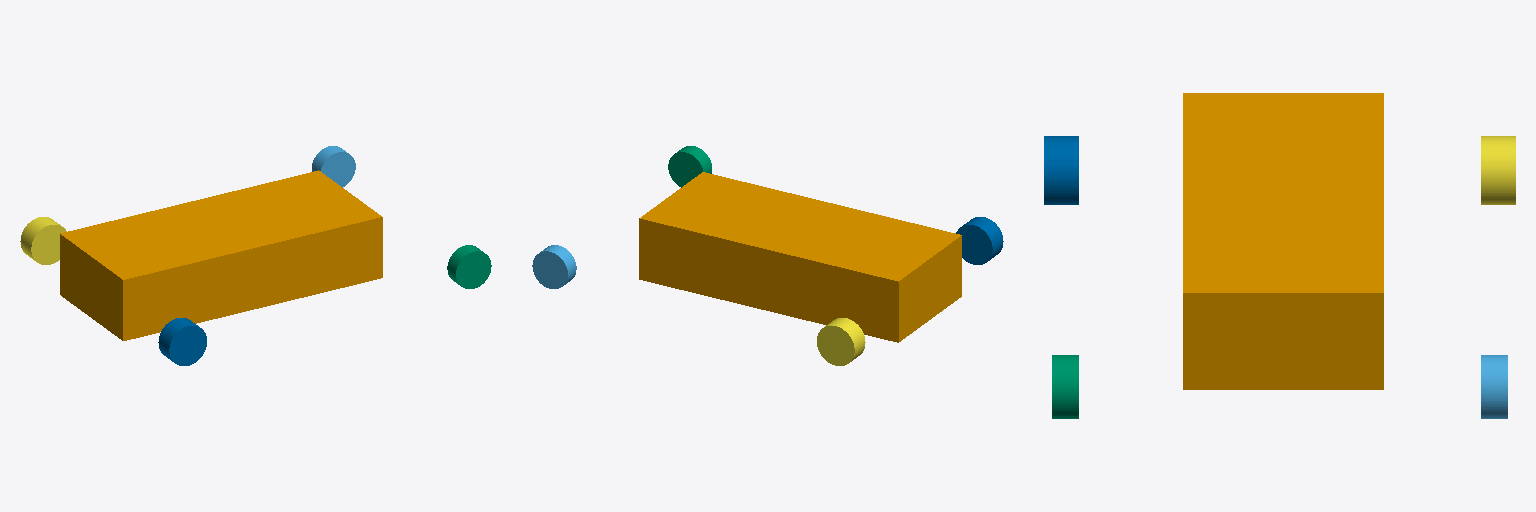
robot.urdf — rc_car:
<?xml version="1.0"?>
<robot name="rc_car">

  <!-- CHASSIS -->
  <link name="chassis">
    <visual>
      <geometry>
        <mesh filename="meshes/chassis.stl" scale="0.001 0.001 0.001"/>
      </geometry>
    </visual>
    <collision>
      <geometry>
        <mesh filename="meshes/chassis.stl" scale="0.001 0.001 0.001"/>
      </geometry>
    </collision>
    <inertial>
      <mass value="3.0"/>
      <inertia ixx="0.1" ixy="0.0" ixz="0.0" iyy="0.1" iyz="0.0" izz="0.1"/>
    </inertial>
  </link>

  <!-- FRONT LEFT WHEEL -->
  <link name="wheel_front_left">
    <visual>
      <geometry>
        <mesh filename="meshes/wheel_front_left.stl" scale="0.001 0.001 0.001"/>
      </geometry>
    </visual>
    <collision>
      <geometry>
        <cylinder radius="0.050" length="0.042"/>
      </geometry>
    </collision>
    <inertial>
      <mass value="0.1"/>
      <inertia ixx="0.001" ixy="0.0" ixz="0.0" iyy="0.001" iyz="0.0" izz="0.001"/>
    </inertial>
  </link>

  <joint name="joint_wheel_front_left" type="revolute">
    <parent link="chassis"/>
    <child link="wheel_front_left"/>
    <origin xyz="0.310 0.15 0.035" rpy="0 0 0"/>
    <axis xyz="0 1 0"/>
    <limit lower="-3.14" upper="3.14" effort="10" velocity="100"/>
  </joint>

  <!-- FRONT RIGHT WHEEL -->
  <link name="wheel_front_right">
    <visual>
      <geometry>
        <mesh filename="meshes/wheel_front_right.stl" scale="0.001 0.001 0.001"/>
      </geometry>
    </visual>
    <collision>
      <geometry>
        <cylinder radius="0.050" length="0.042"/>
      </geometry>
    </collision>
    <inertial>
      <mass value="0.1"/>
      <inertia ixx="0.001" ixy="0.0" ixz="0.0" iyy="0.001" iyz="0.0" izz="0.001"/>
    </inertial>
  </link>

  <joint name="joint_wheel_front_right" type="revolute">
    <parent link="chassis"/>
    <child link="wheel_front_right"/>
    <origin xyz="0.310 -0.160 0.035" rpy="0 0 0"/>
    <axis xyz="0 1 0"/>
    <limit lower="-3.14" upper="3.14" effort="10" velocity="100"/>
  </joint>

  <!-- REAR LEFT WHEEL -->
  <link name="wheel_rear_left">
    <visual>
      <geometry>
        <mesh filename="meshes/wheel_rear_left.stl" scale="0.001 0.001 0.001"/>
      </geometry>
    </visual>
    <collision>
      <geometry>
        <cylinder radius="0.0535" length="0.053"/>
      </geometry>
    </collision>
    <inertial>
      <mass value="0.1"/>
      <inertia ixx="0.001" ixy="0.0" ixz="0.0" iyy="0.001" iyz="0.0" izz="0.001"/>
    </inertial>
  </link>

  <joint name="joint_wheel_rear_left" type="revolute">
    <parent link="chassis"/>
    <child link="wheel_rear_left"/>
    <origin xyz="-0.095 0.150 0.030" rpy="0 0 0"/>
    <axis xyz="0 1 0"/>
    <limit lower="-3.14" upper="3.14" effort="10" velocity="100"/>
  </joint>

  <!-- REAR RIGHT WHEEL -->
  <link name="wheel_rear_right">
    <visual>
      <geometry>
        <mesh filename="meshes/wheel_rear_right.stl" scale="0.001 0.001 0.001"/>
      </geometry>
    </visual>
    <collision>
      <geometry>
        <cylinder radius="0.0535" length="0.053"/>
      </geometry>
    </collision>
    <inertial>
      <mass value="0.1"/>
      <inertia ixx="0.001" ixy="0.0" ixz="0.0" iyy="0.001" iyz="0.0" izz="0.001"/>
    </inertial>
  </link>

  <joint name="joint_wheel_rear_right" type="revolute">
    <parent link="chassis"/>
    <child link="wheel_rear_right"/>
    <origin xyz="-0.095 -0.16 0.030" rpy="0 0 0"/>
    <axis xyz="0 1 0"/>
    <limit lower="-3.14" upper="3.14" effort="10" velocity="100"/>
  </joint>

</robot>

--- Render facts (derived) ---
The picture shows the robot from 3 angles, left to right: view 1: azimuth 30°, elevation 25°; view 2: azimuth 150°, elevation 25°; view 3: azimuth 270°, elevation 25°; orthographic projection.
Model rc_car with 5 links and 4 joints (4 revolute), rooted at chassis, posed every joint at zero.
Visible links, largest first — view 1: chassis, wheel_rear_right, wheel_rear_left, wheel_front_right, wheel_front_left; view 2: chassis, wheel_rear_left, wheel_rear_right, wheel_front_left, wheel_front_right; view 3: chassis, wheel_rear_left, wheel_rear_right, wheel_front_left, wheel_front_right.
Link boxes in pixels (x1=…): chassis: x1=60, y1=170, x2=382, y2=340; wheel_rear_right: x1=158, y1=318, x2=206, y2=365; wheel_rear_left: x1=20, y1=217, x2=66, y2=264; wheel_front_right: x1=447, y1=245, x2=491, y2=288; wheel_front_left: x1=312, y1=146, x2=355, y2=187; chassis: x1=639, y1=172, x2=961, y2=342; wheel_rear_left: x1=817, y1=318, x2=865, y2=365; wheel_rear_right: x1=956, y1=217, x2=1003, y2=264; wheel_front_left: x1=532, y1=245, x2=576, y2=288; wheel_front_right: x1=668, y1=146, x2=711, y2=187; chassis: x1=1183, y1=93, x2=1383, y2=389; wheel_rear_left: x1=1481, y1=136, x2=1515, y2=204; wheel_rear_right: x1=1044, y1=136, x2=1078, y2=204; wheel_front_left: x1=1481, y1=355, x2=1507, y2=418; wheel_front_right: x1=1052, y1=355, x2=1078, y2=418.
Size in the robot's own frame: 0.92 by 0.726 by 0.165 metres.
Meshes: 5 distinct files referenced, 5 mesh visuals loaded (5 binary STL).
